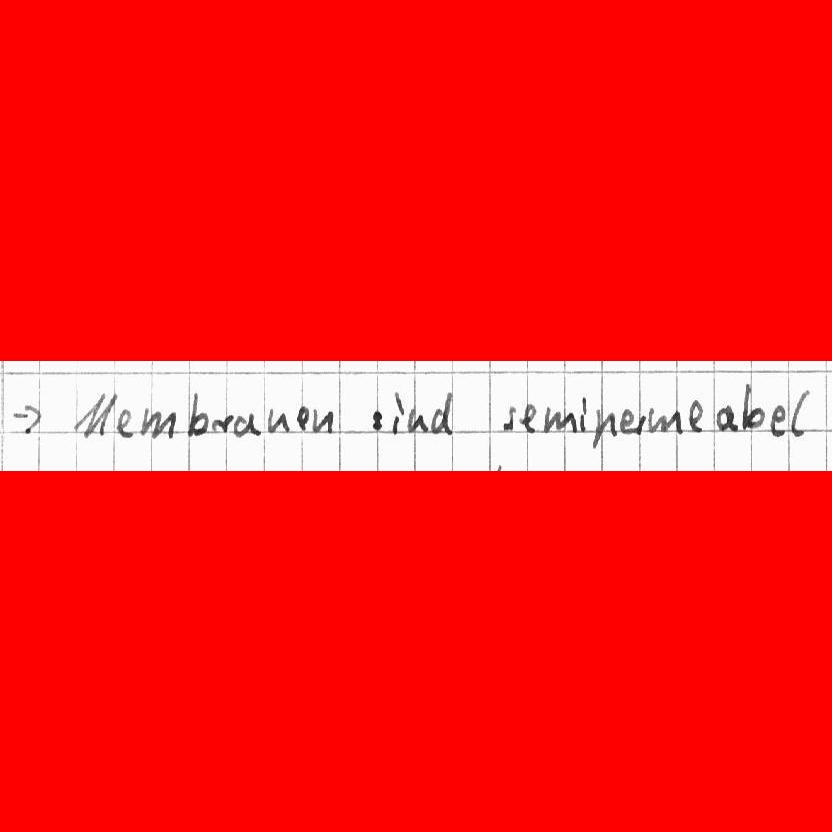Char: (72, 391, 118, 440), (741, 382, 766, 432), (788, 388, 812, 438), (11, 402, 45, 437), (140, 406, 175, 440), (185, 391, 210, 438), (429, 390, 455, 435), (646, 405, 684, 435), (591, 407, 617, 450), (543, 405, 578, 434), (232, 410, 262, 438), (714, 403, 739, 432), (390, 389, 405, 436), (768, 402, 788, 437), (266, 407, 291, 434), (518, 401, 537, 435), (311, 406, 334, 434), (687, 398, 705, 433), (405, 407, 428, 433), (116, 407, 134, 438), (618, 407, 637, 435), (210, 412, 233, 434), (502, 403, 518, 432), (578, 395, 589, 434), (295, 404, 310, 432), (370, 409, 383, 432), (635, 413, 647, 437)
